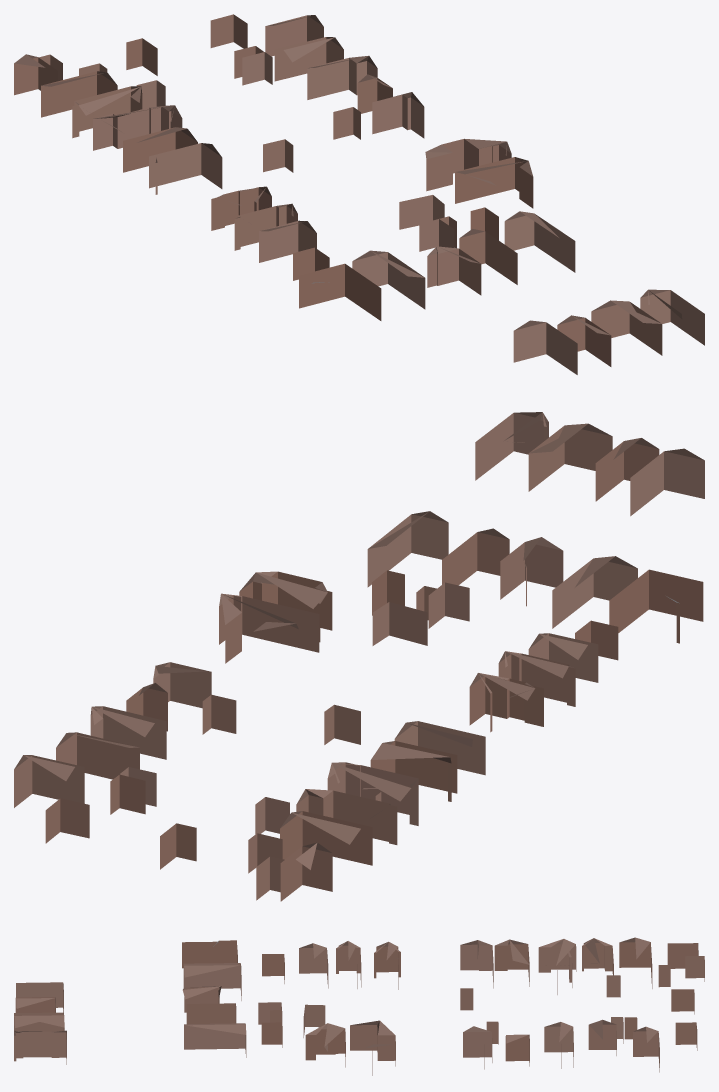
Rendered from c_1642_17826_buildings_residential.glb.
3 views of the same model, one above another, from view 1: azimuth 30°, elevation 25°; view 2: azimuth 150°, elevation 25°; view 3: azimuth 270°, elevation 25° (orthographic). The views are drawn at different scales.
Visible parts, largest first — view 1: geometry_0; view 2: geometry_0; view 3: geometry_0.
Part boxes in pixels (left/top/right/bottom): geometry_0: left=14, top=14, right=704, bottom=374; geometry_0: left=14, top=412, right=704, bottom=901; geometry_0: left=14, top=937, right=704, bottom=1075.
Bounding box in the file's own units: 86.91 × 10.94 × 226.
